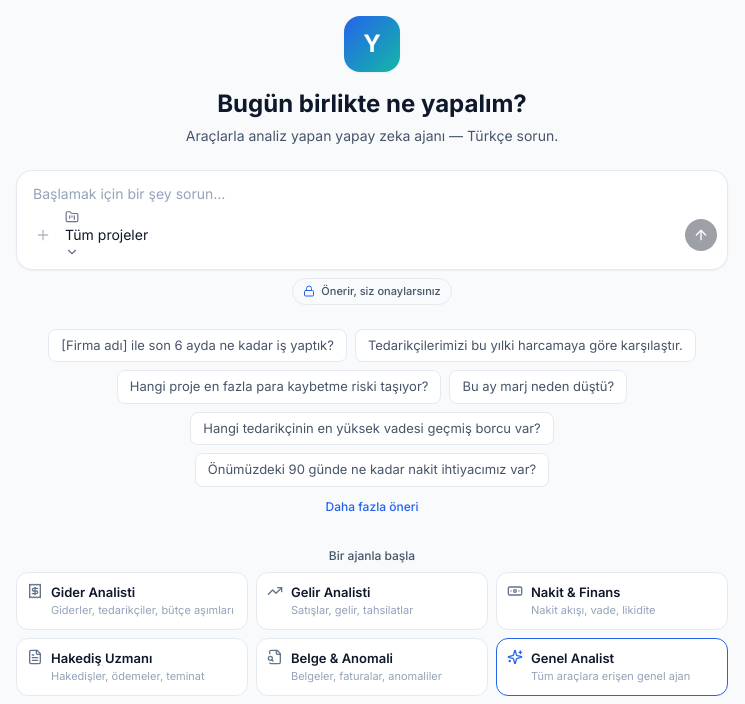
Test case: AIAssistantPage agent steps (Cowork-style collapse) › expands a collapsed group, then a single step row reveals its detail
Type "Akçansa ne kadar?" into the text box at (372, 188), box [17,171,727,206]
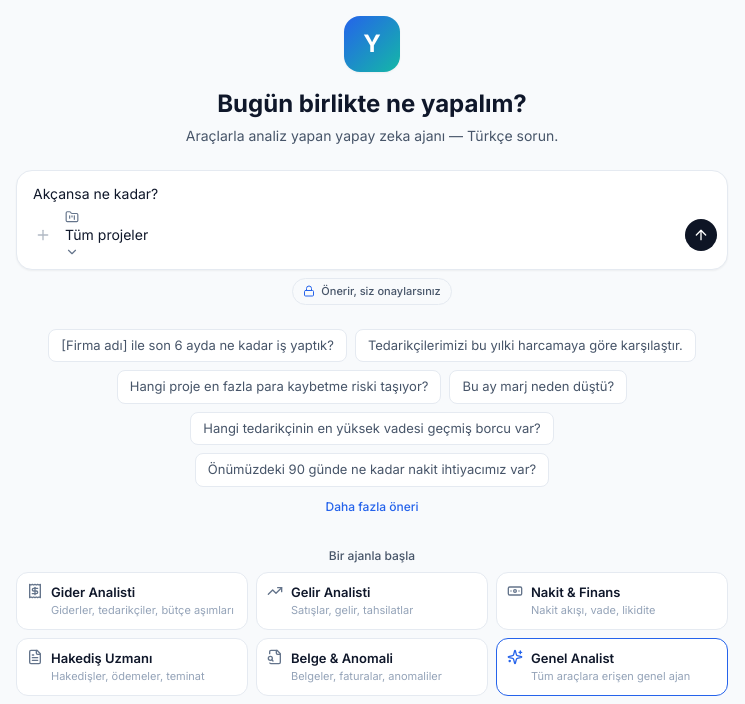
Click the button named "Gönder" at (701, 234), box [685,218,717,250]
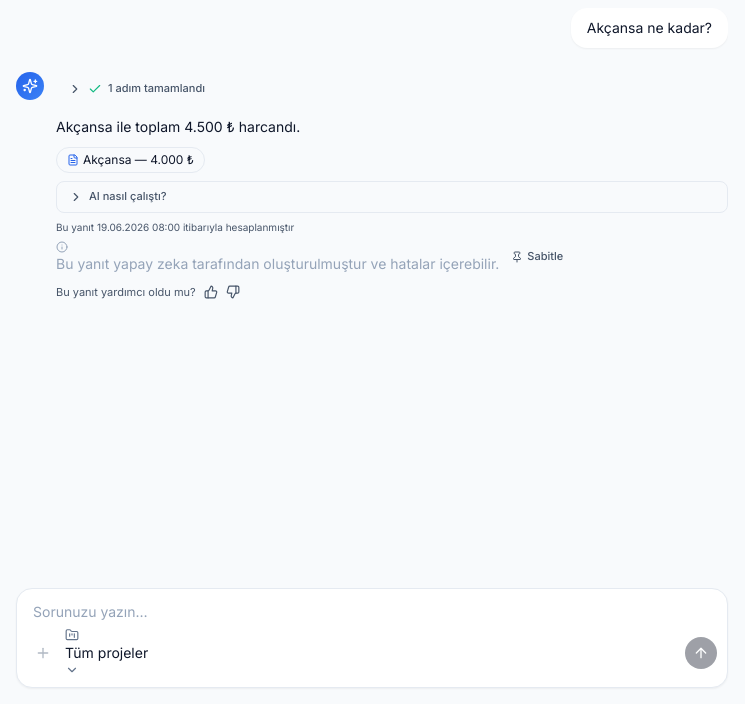
Click the button "1 adım tamamlandı" at (157, 88), box [56,74,728,104]
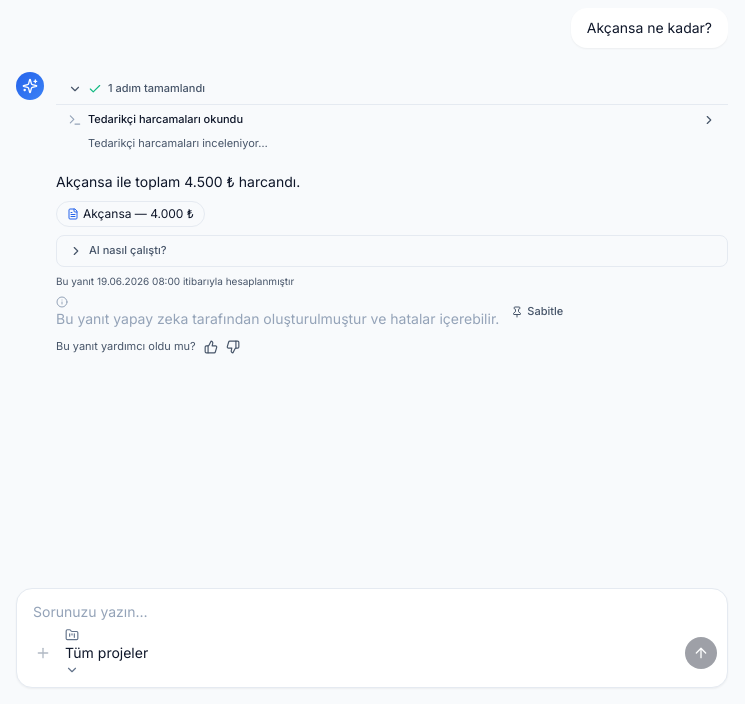
Expected: the text "get_vendor_spend" is not shown
Expected: the text "Tedarikçi harcamaları inceleniyor…" is shown, [88,136,268,150]
Click the button "Tedarikçi harcamaları okundu" at (166, 119), box [56,105,728,135]
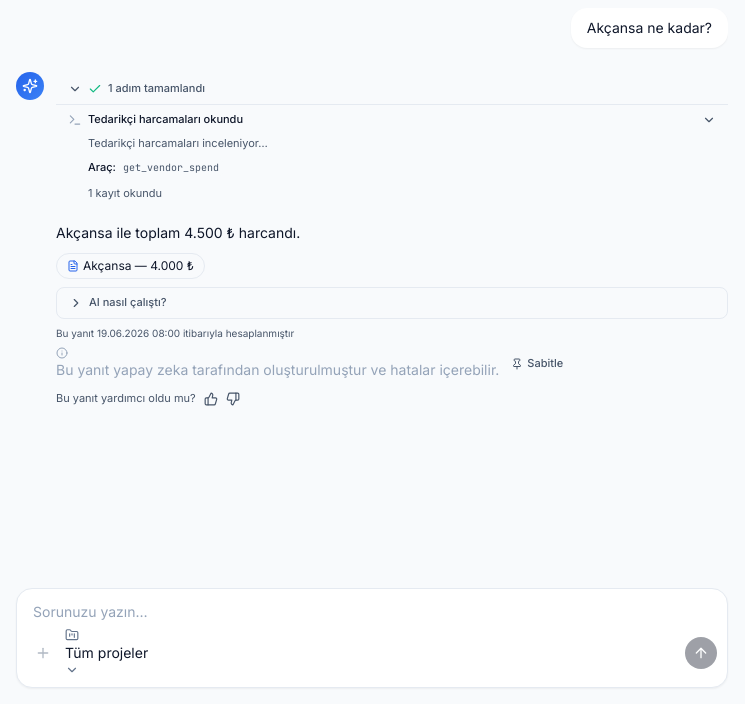
Expected: the text "get_vendor_spend" is shown, [119,159,223,176]
Expected: the text "1 kayıt okundu" is shown, [88,186,162,200]
